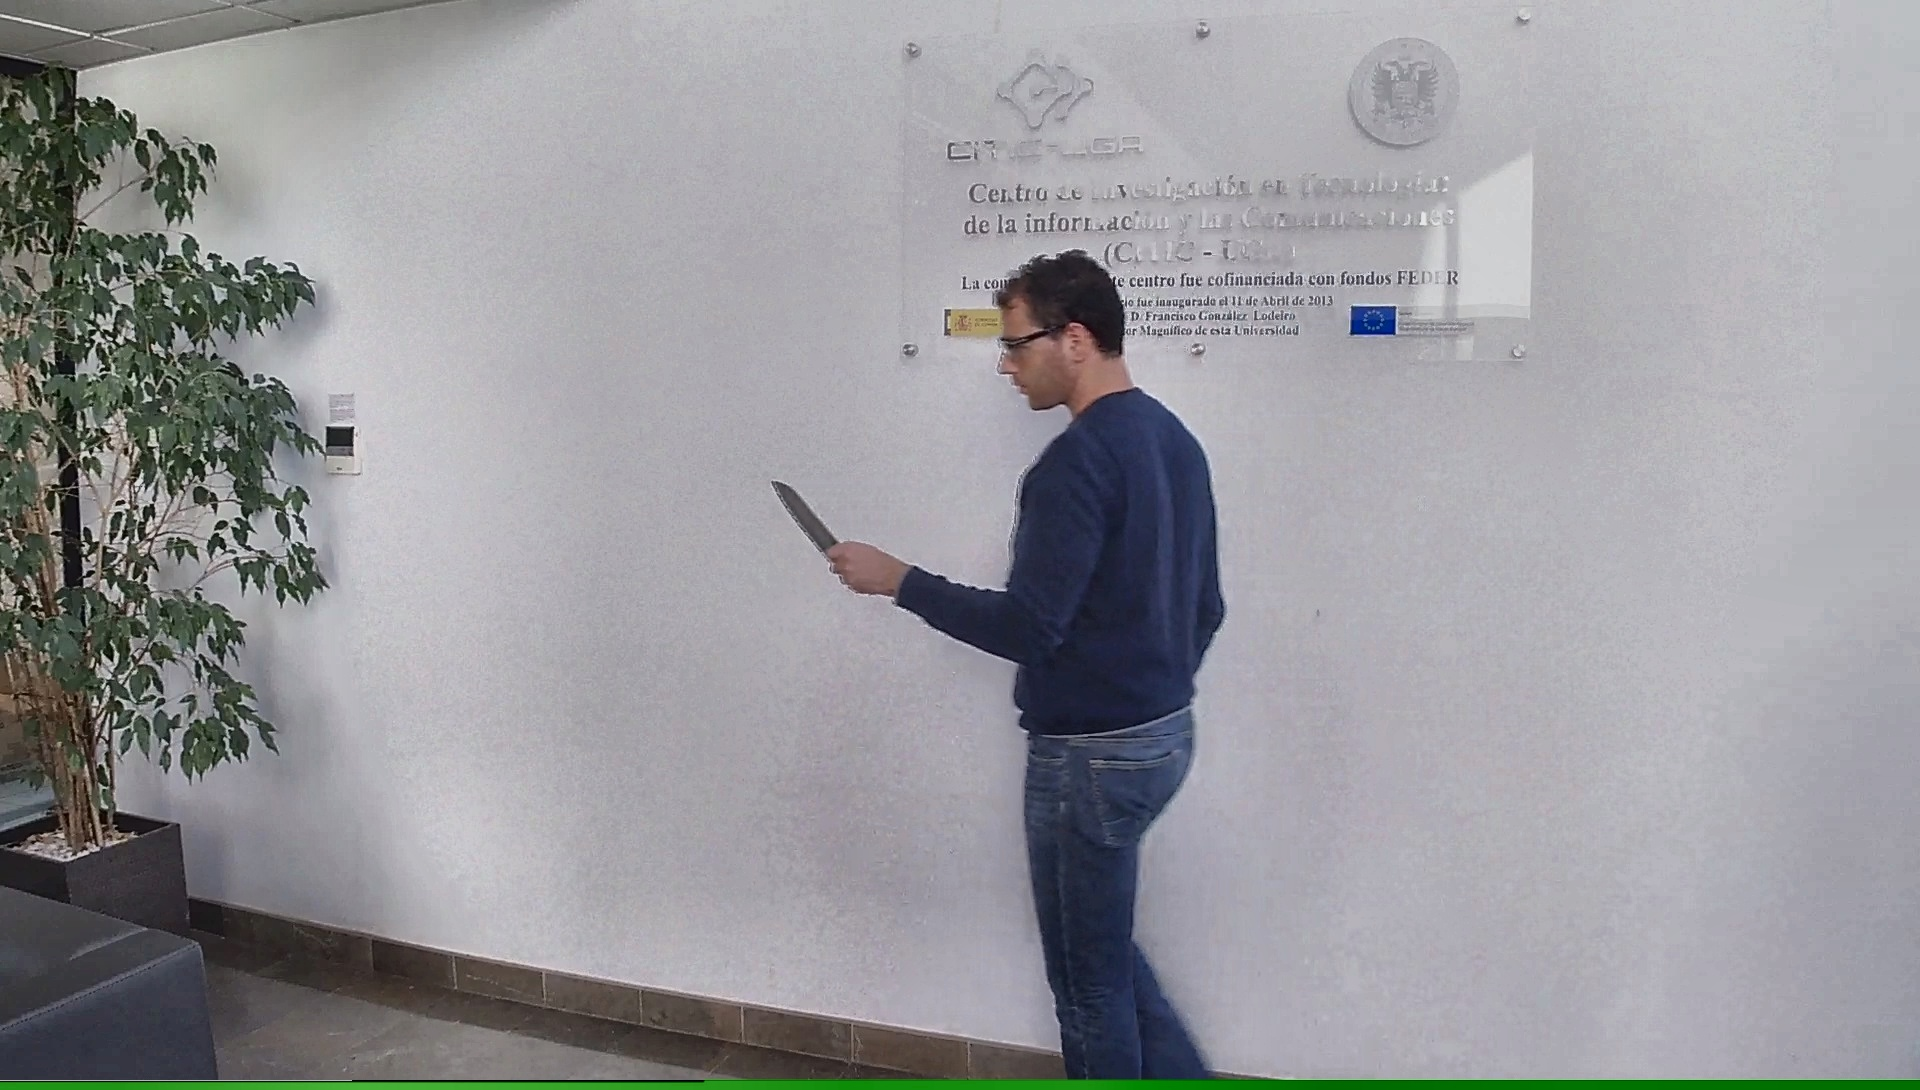knife: (764, 471, 864, 585)
